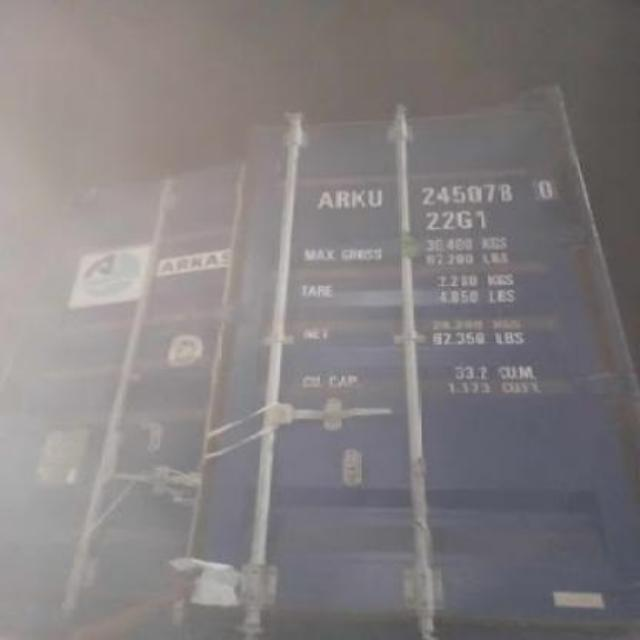0: (540, 178, 554, 200), (466, 185, 479, 203)
2: (420, 186, 438, 207)
4: (436, 184, 452, 206)
5: (452, 185, 464, 203)
7: (482, 183, 500, 201)
8: (498, 182, 514, 205)
A: (316, 190, 334, 212)
K: (350, 188, 368, 212)
R: (336, 191, 349, 209)
U: (368, 189, 386, 207)
